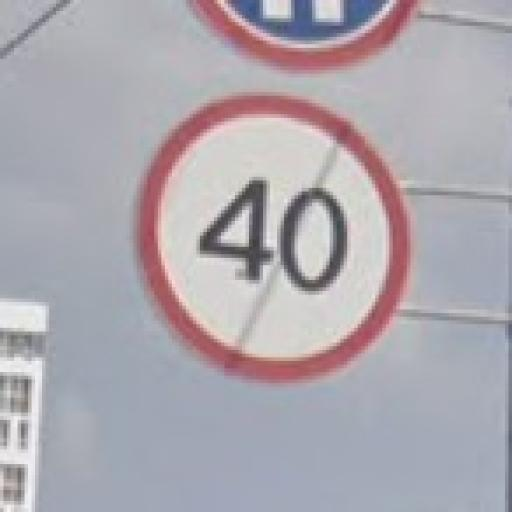traffic_sign: (138, 89, 411, 384)
